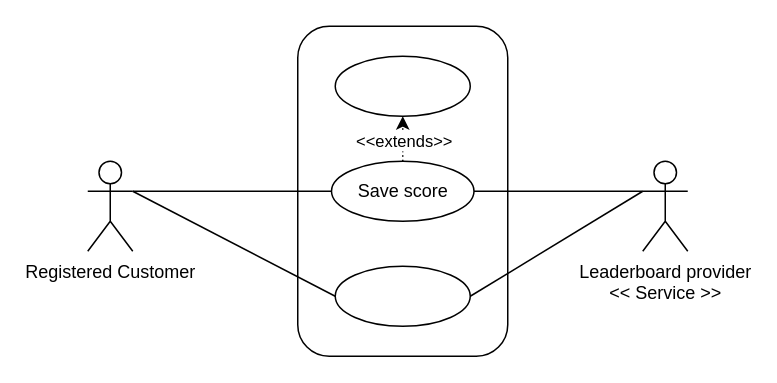
Image size: 777x383. Some labels were removed from this diagram. The shapes that lost their labels are listed below. From the top down, each one's centre as x and y in pixels, then its label:
At [402,85]: "Play game".
At [402,295]: "Check leaderboard".
